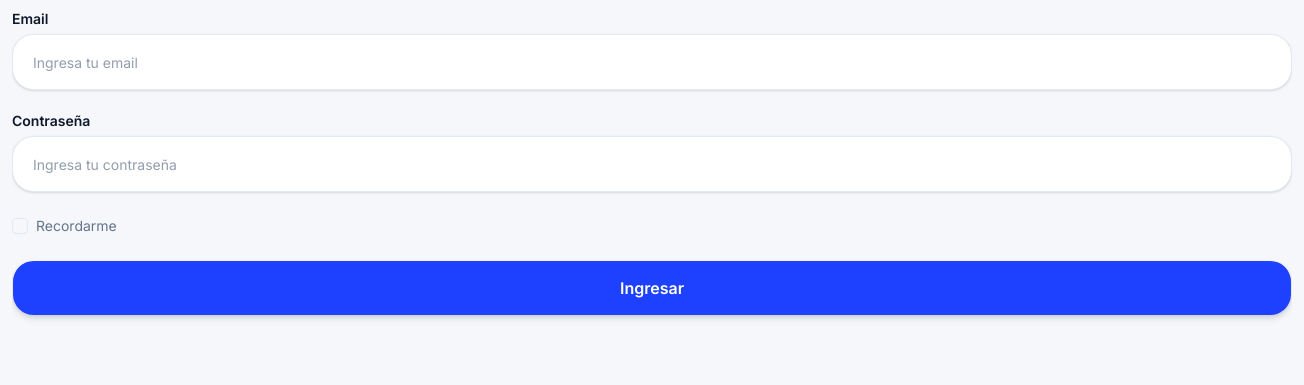
Test: LoginForm › muestra errores de validación cuando los campos están vacíos
Click the button "Ingresar".
click(652, 288)  # box [12,260,1292,316]
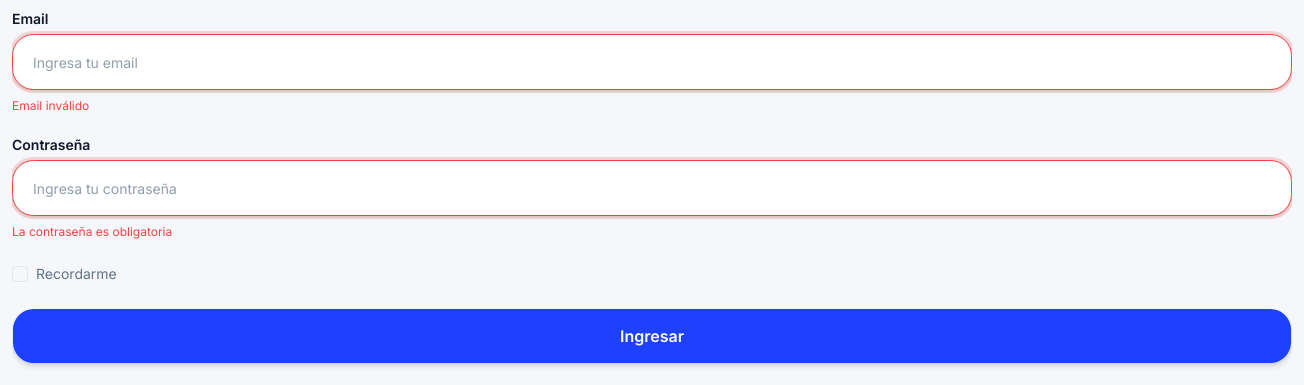
Now the text "Email inválido" is shown, box [12,98,89,113]
Now the text "La contraseña es obligatoria" is shown, box [12,224,172,239]
